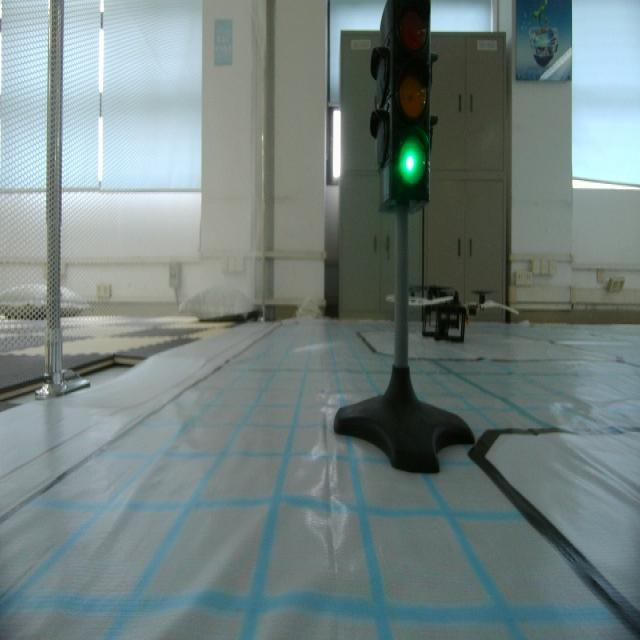green: (379, 8, 431, 199)
